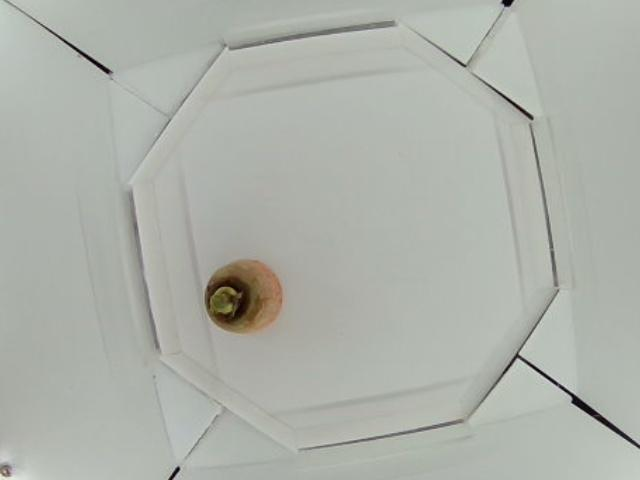Carrot: (203, 260, 286, 337)
